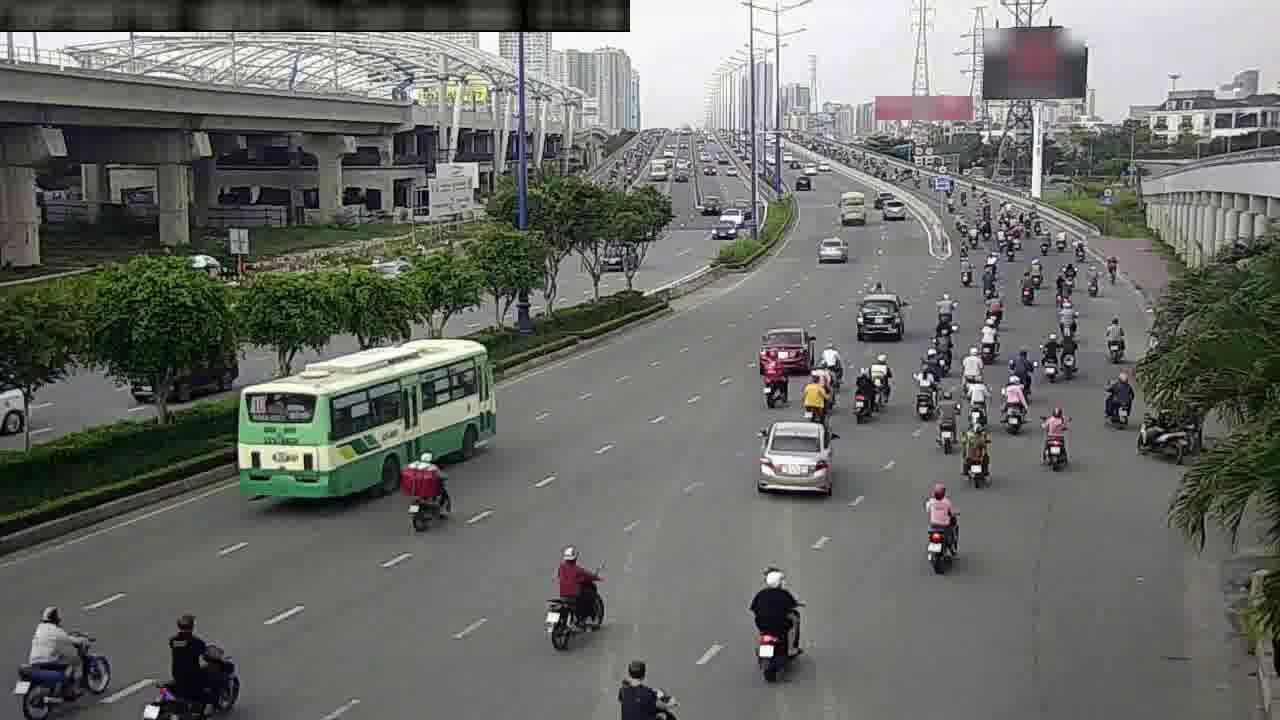14: (237, 338, 487, 496)
container: (760, 421, 839, 501), (760, 329, 816, 373), (855, 294, 903, 341)
motorbike: (14, 598, 112, 712), (153, 617, 231, 720), (740, 566, 810, 680), (545, 549, 604, 651), (602, 653, 689, 718), (395, 445, 457, 528), (910, 484, 964, 568), (1032, 403, 1076, 469), (1101, 371, 1139, 431), (962, 423, 994, 491), (995, 377, 1031, 433), (757, 354, 792, 411), (797, 366, 831, 422), (1096, 311, 1133, 361), (934, 393, 964, 451), (867, 348, 898, 402), (911, 365, 941, 419), (960, 370, 991, 421), (1035, 323, 1062, 379), (971, 314, 1003, 361), (817, 339, 847, 389), (956, 342, 988, 387), (927, 324, 957, 368), (1055, 330, 1083, 377), (1010, 351, 1039, 396), (852, 361, 872, 424), (1051, 296, 1080, 338), (1012, 268, 1039, 306), (933, 290, 957, 331), (980, 288, 1007, 324), (1081, 264, 1106, 300), (952, 256, 977, 290), (1009, 335, 1029, 377)
